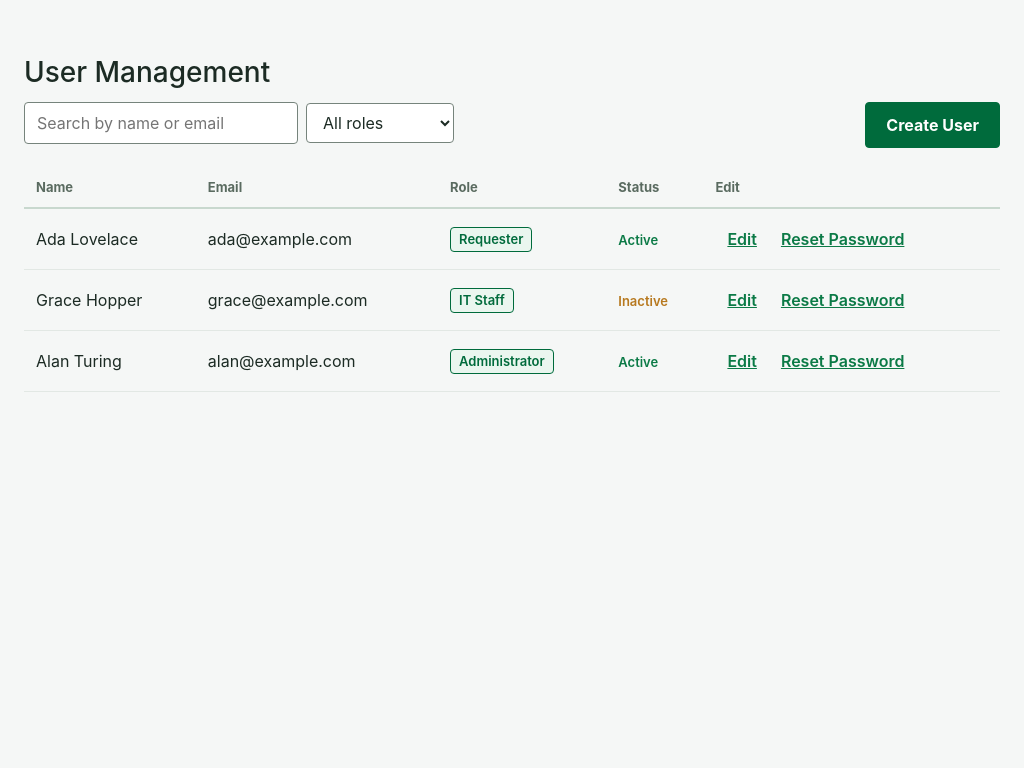
UI-ADM-01: User Management › edits a user through the Edit modal
Check: the text "Ada Lovelace" is shown, box top-left (24, 208), bottom-right (196, 270)
Click the button "Edit" in the row of "Ada Lovelace" at coordinates (742, 239), box top-left (715, 219), bottom-right (769, 259)
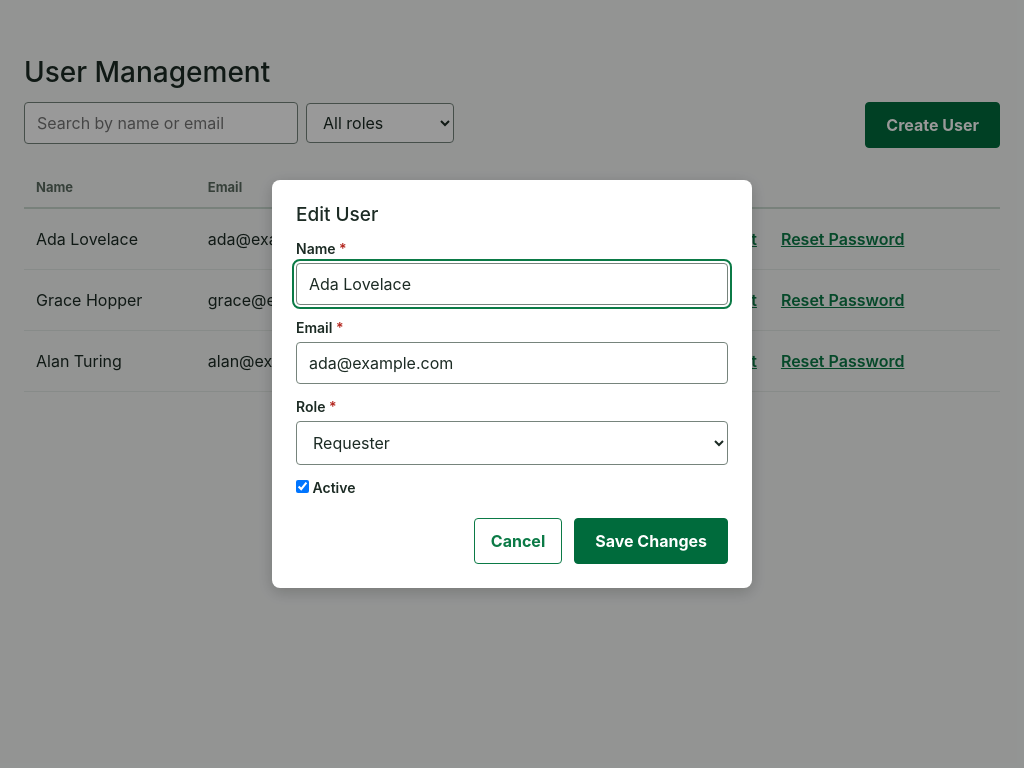
Check: the field labelled "Name *" holds "Ada Lovelace"
Replace the text in the field labelled "Name *" with "Ada Renamed" at coordinates (512, 284), box top-left (296, 263), bottom-right (728, 305)
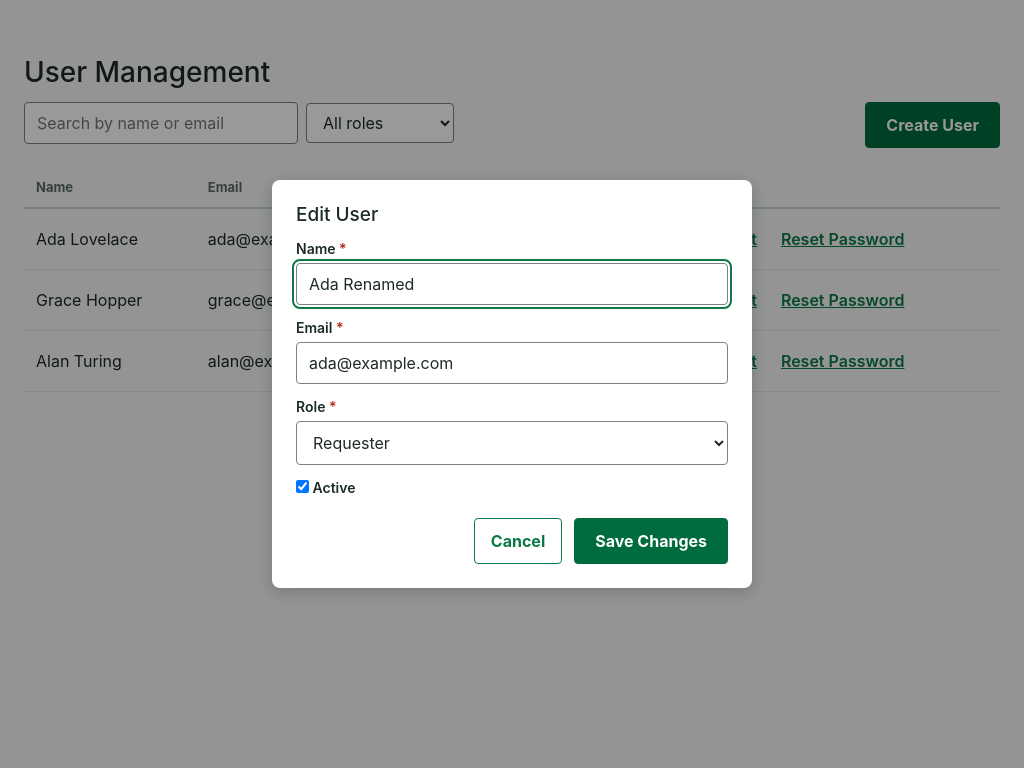
Click the button "Save Changes" at coordinates (651, 541), box top-left (574, 518), bottom-right (728, 564)
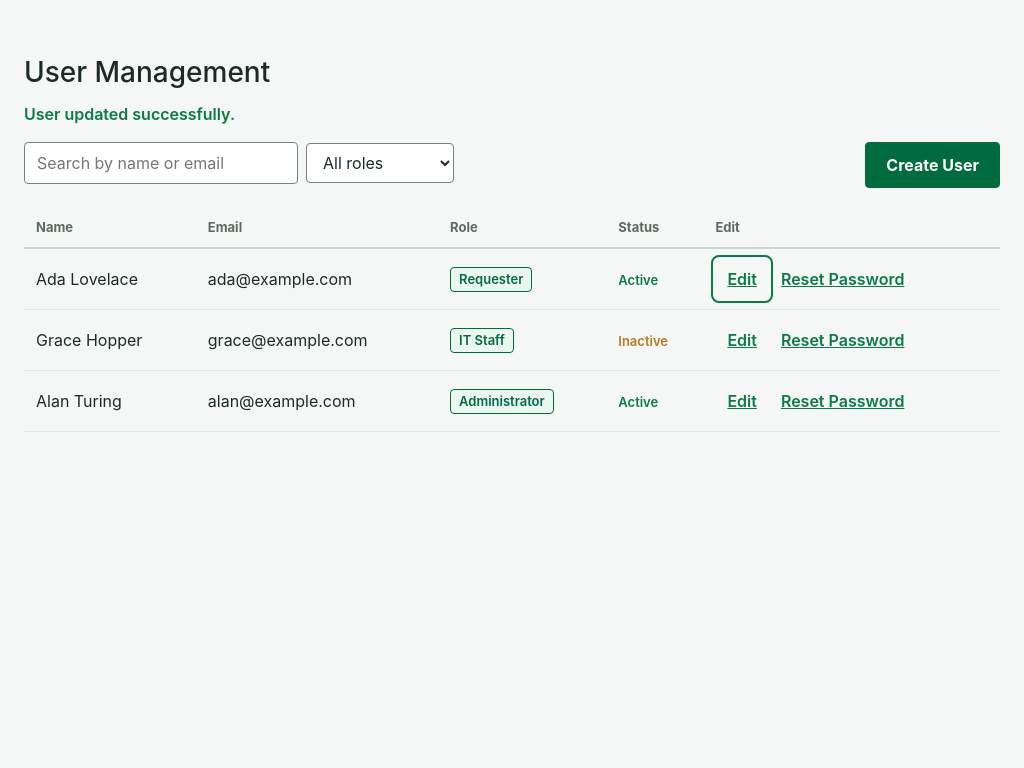
Check: the message reads "User updated successfully.", box top-left (24, 104), bottom-right (235, 124)
